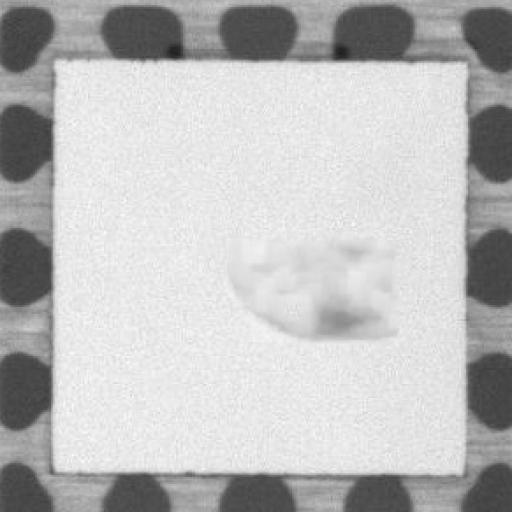DIE_INK: (211, 232, 410, 347)
